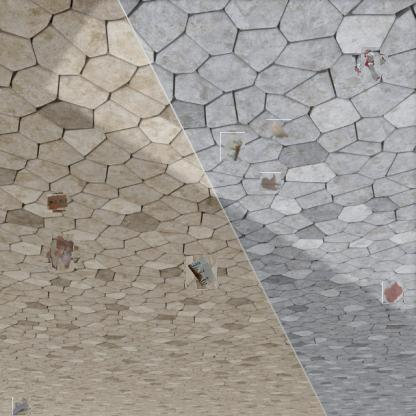dirty: (184, 256, 218, 288), (47, 238, 77, 268), (356, 52, 384, 80), (220, 132, 245, 161), (266, 119, 292, 140), (48, 193, 67, 211), (12, 397, 30, 416)
liquid: (382, 282, 404, 303), (259, 172, 281, 191)
